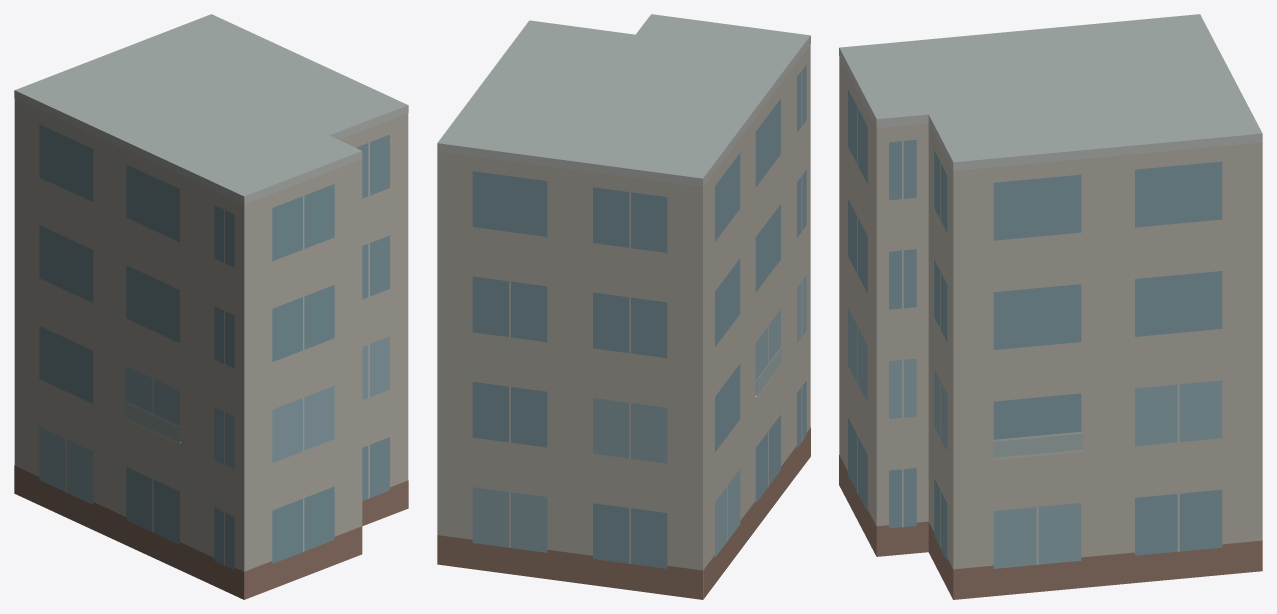
Rendered from residential-a20cc93f-6990-4339-878c-fd5e41456b76.glb.
The picture shows the model from 3 angles, left to right: view 1: azimuth 30°, elevation 25°; view 2: azimuth 150°, elevation 25°; view 3: azimuth 270°, elevation 25°; orthographic projection. The views are drawn at different scales.
Parts seen in each view (by area): view 1: residential-a20cc93f-6990-4339-878c-fd5e41456b76.tmp; view 2: residential-a20cc93f-6990-4339-878c-fd5e41456b76.tmp; view 3: residential-a20cc93f-6990-4339-878c-fd5e41456b76.tmp.
Part boxes in pixels (x1,y1,x2,y2): residential-a20cc93f-6990-4339-878c-fd5e41456b76.tmp: (14,14,408,599); residential-a20cc93f-6990-4339-878c-fd5e41456b76.tmp: (437,14,810,599); residential-a20cc93f-6990-4339-878c-fd5e41456b76.tmp: (839,14,1262,599).
Size of the model in its own units: 8.88 by 12.2 by 10.71.
